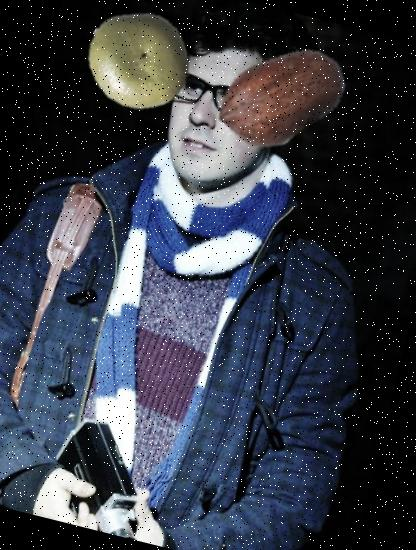Nut: (200, 15, 362, 178)
Pomelo: (75, 0, 203, 124)
